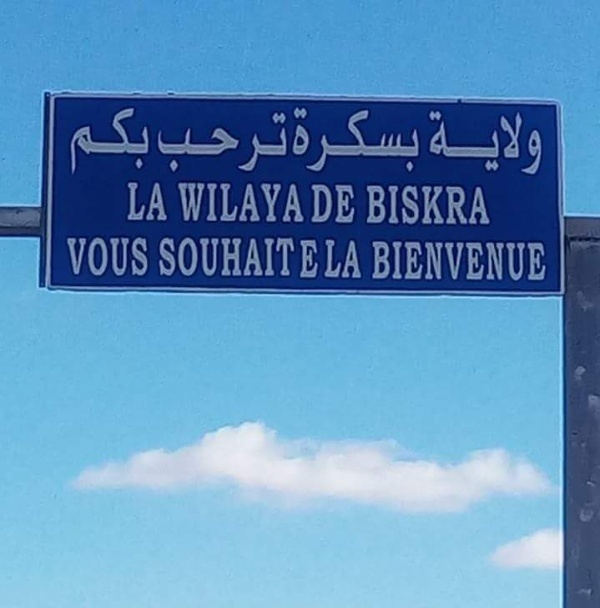text: (529, 110, 545, 176), (81, 107, 96, 177), (97, 107, 112, 177), (113, 107, 128, 177), (129, 107, 144, 177), (289, 104, 304, 174), (305, 104, 320, 174), (321, 104, 336, 174), (337, 104, 352, 174), (353, 104, 368, 174), (369, 104, 384, 174), (385, 104, 400, 174), (401, 104, 416, 174), (433, 110, 448, 176), (449, 110, 464, 176), (465, 110, 480, 176), (481, 110, 496, 176), (497, 110, 512, 176), (513, 110, 528, 176), (161, 112, 176, 176), (177, 112, 192, 176), (193, 112, 208, 176), (209, 112, 224, 176), (225, 112, 240, 176), (241, 112, 256, 176), (257, 112, 272, 176), (273, 112, 288, 176), (369, 184, 384, 229), (385, 184, 400, 229), (401, 184, 416, 229), (417, 184, 432, 229), (433, 184, 448, 229), (449, 184, 464, 229), (465, 184, 480, 229), (321, 183, 336, 226), (337, 183, 352, 226), (177, 180, 192, 223), (193, 180, 208, 223), (209, 180, 224, 223), (225, 180, 240, 223), (241, 180, 256, 223), (257, 180, 272, 223), (273, 180, 288, 223), (289, 180, 304, 223), (385, 241, 400, 284), (401, 241, 416, 284), (417, 241, 432, 284), (433, 241, 448, 284), (449, 241, 464, 284), (465, 241, 480, 284), (481, 241, 496, 284), (497, 241, 512, 284), (513, 241, 528, 284), (529, 241, 544, 284), (71, 107, 80, 177), (81, 237, 96, 279), (97, 237, 112, 279), (113, 237, 128, 279), (129, 237, 144, 279), (161, 237, 176, 279), (177, 237, 192, 279), (193, 237, 208, 279), (209, 237, 224, 279), (225, 237, 240, 279), (241, 237, 256, 279), (257, 237, 272, 279), (273, 237, 288, 279), (289, 237, 304, 279), (305, 237, 320, 279), (129, 182, 144, 222), (145, 182, 160, 222), (337, 239, 352, 279), (66, 237, 80, 279), (481, 184, 493, 229), (424, 110, 432, 176), (373, 241, 384, 284), (325, 239, 336, 279), (353, 239, 364, 279), (145, 107, 150, 177), (312, 183, 320, 226), (161, 182, 169, 222), (417, 104, 421, 174), (353, 183, 358, 226), (145, 237, 150, 279), (157, 112, 160, 176), (545, 241, 548, 284), (366, 184, 368, 229), (289, 112, 290, 176), (305, 180, 306, 223), (159, 237, 160, 279), (321, 237, 322, 279)
